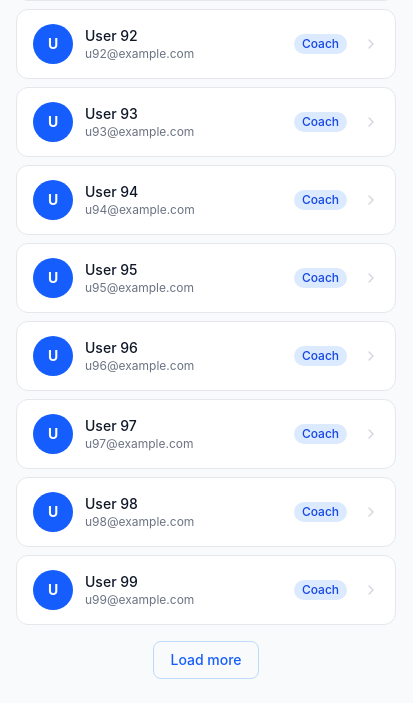
Scenario: UsersPage — "Load more" button visibility › hides "Load more" after the last page returns fewer than 100 docs
This screenshot has width=413, height=703.
(page scrolled)
Click the button "Load more" at (206, 660), box 154,641 -> 259,679
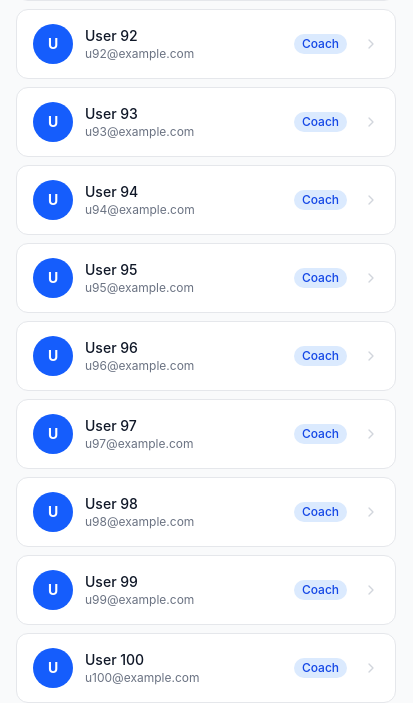
expect the text "User 100" is shown: met, box 85,651 -> 144,668
expect the button "Load more" is gone: met
